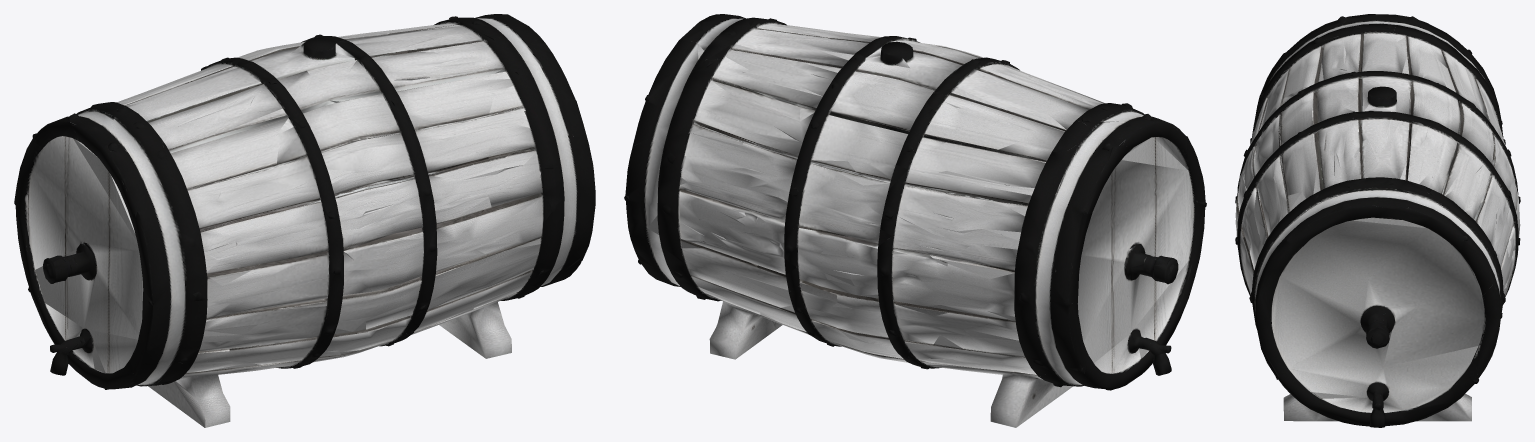
Rendered from TonneauGros.fbx.
The picture shows the model from 3 angles, left to right: view 1: azimuth 30°, elevation 25°; view 2: azimuth 150°, elevation 25°; view 3: azimuth 270°, elevation 25°; orthographic projection. The views are drawn at different scales.
Visible parts, largest first — view 1: output_unwrapped; view 2: output_unwrapped; view 3: output_unwrapped.
Boxes of the visible parts, <box> form: output_unwrapped: <box>14,14,595,427</box>; output_unwrapped: <box>624,14,1206,427</box>; output_unwrapped: <box>1235,14,1520,427</box>.
Bounding box in the file's own units: 190 × 106 × 102.
Materials: 1 (1 with a texture image).
